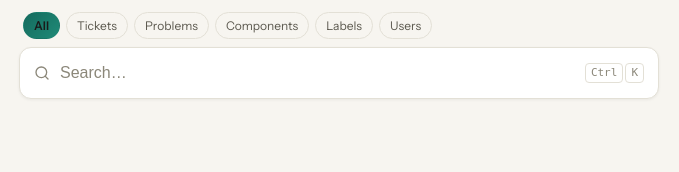
Test: GlobalSearchBar — kbd hint discoverability (audit P1#7) › hides the kbd hint while typing and restores it when cleared
Type "abc" into the search field at (317, 73), box [60,52,575,94]
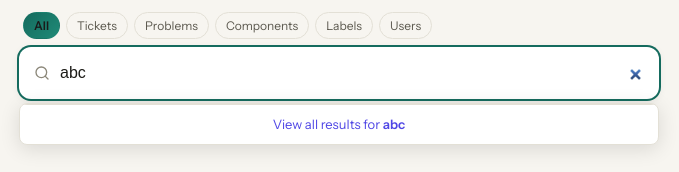
Result: the element with class "gsb__kbd-hint" is gone
Clear the search field at (352, 73), box [60,52,644,94]
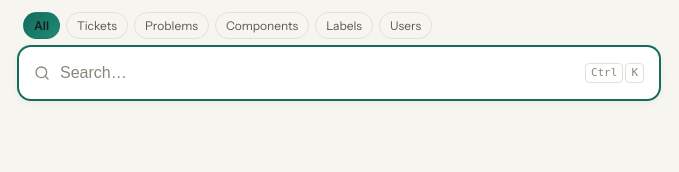
Result: the element with class "gsb__kbd-hint" is shown at [585,64,644,83]
